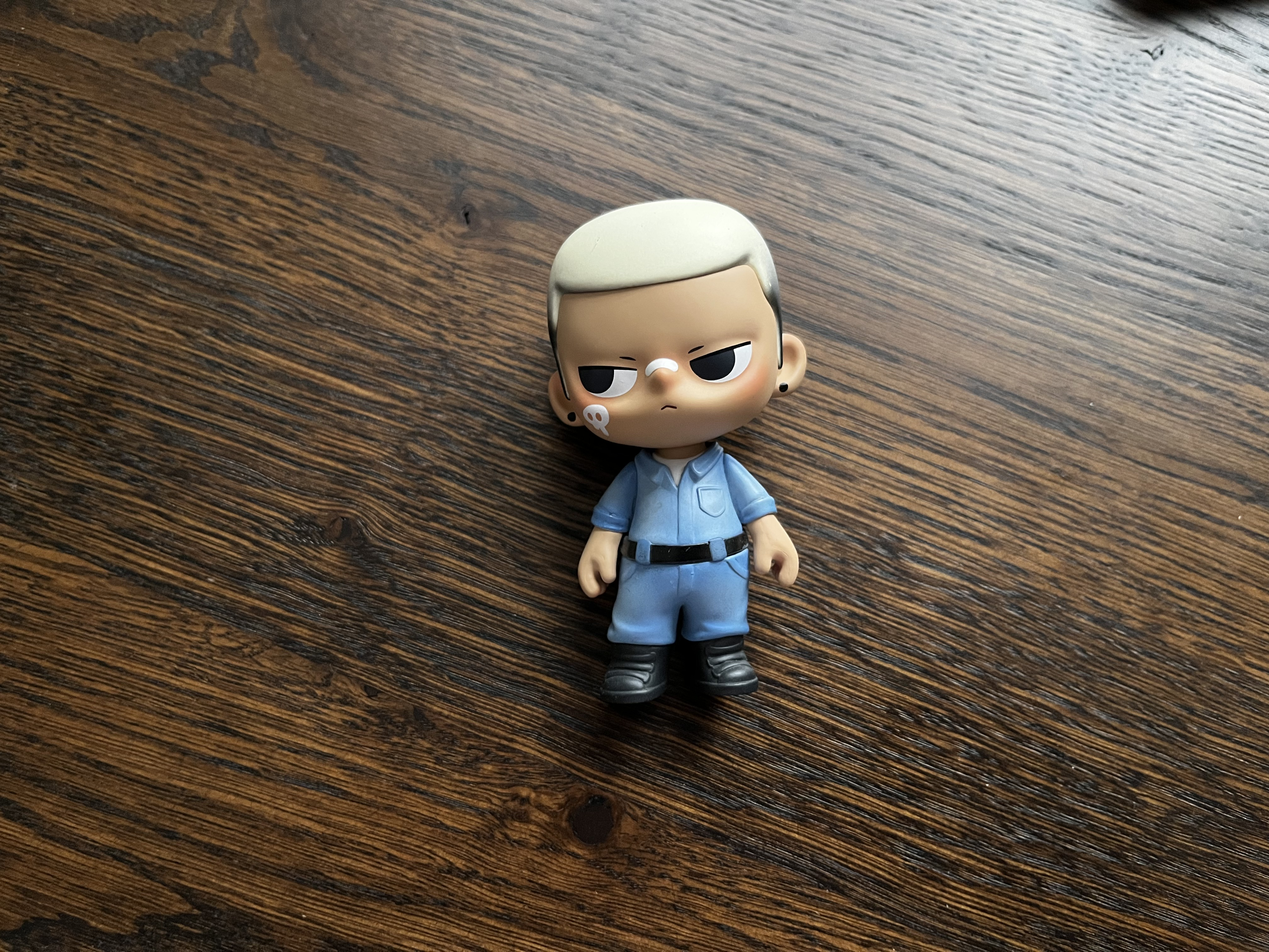worker: (525, 174, 836, 722)
